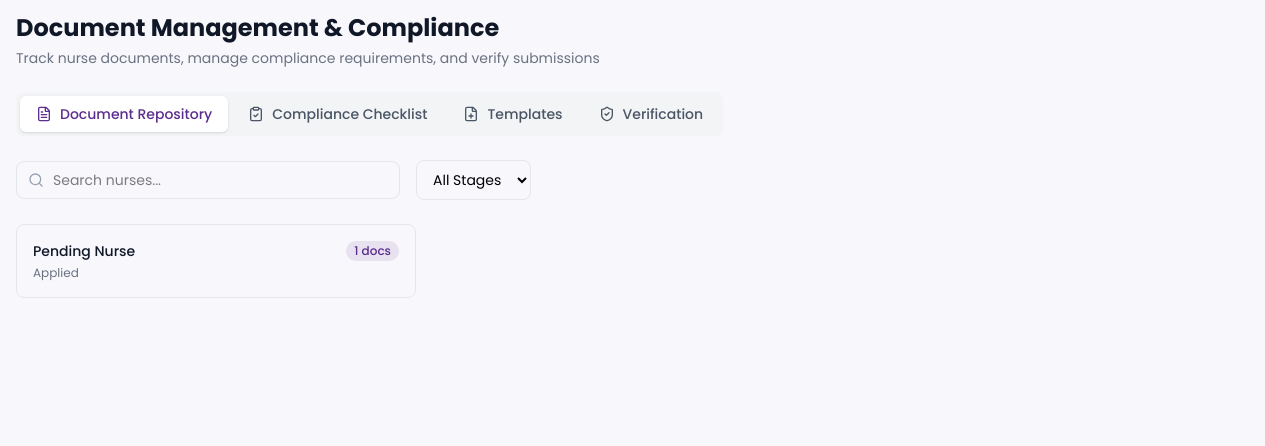
Workflow integration tests › Document verification workflow › shows pending items in verification queue
This screenshot has width=1265, height=446.
// Navigate to Verification tab
Step 1. Click the button "Verification" → (651, 114), box [582,96,719,132]
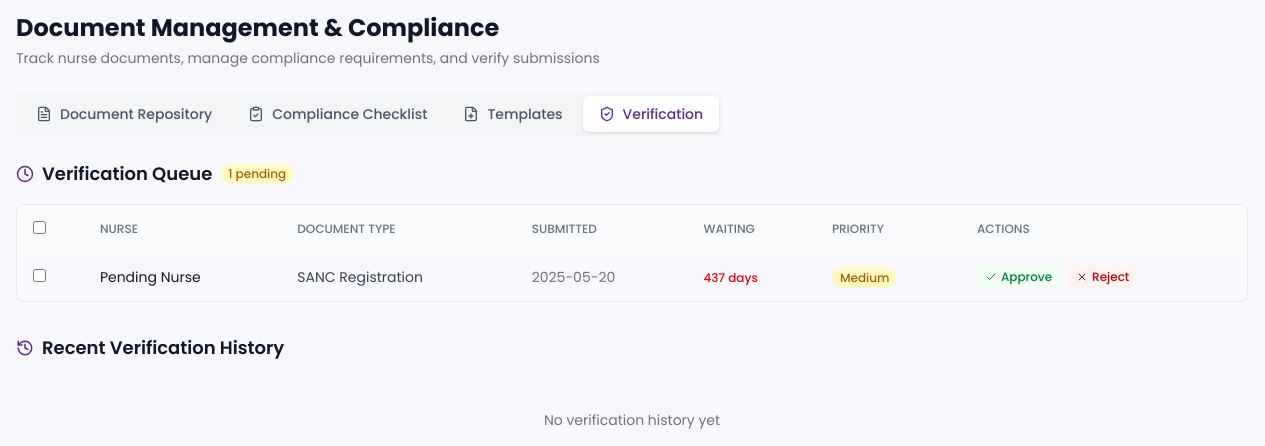
Now the text "Pending Nurse" is shown, box [84,253,281,301]
Now the text "SANC Registration" is shown, box [281,253,516,301]
